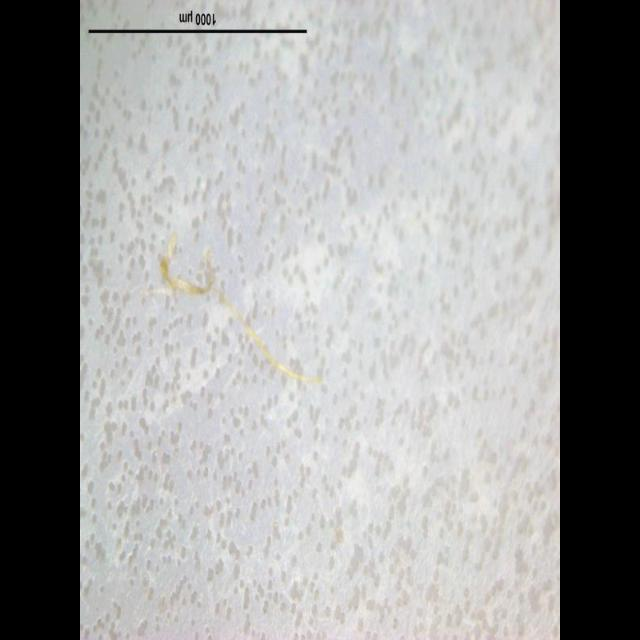Fibre: (154, 222, 223, 316)
